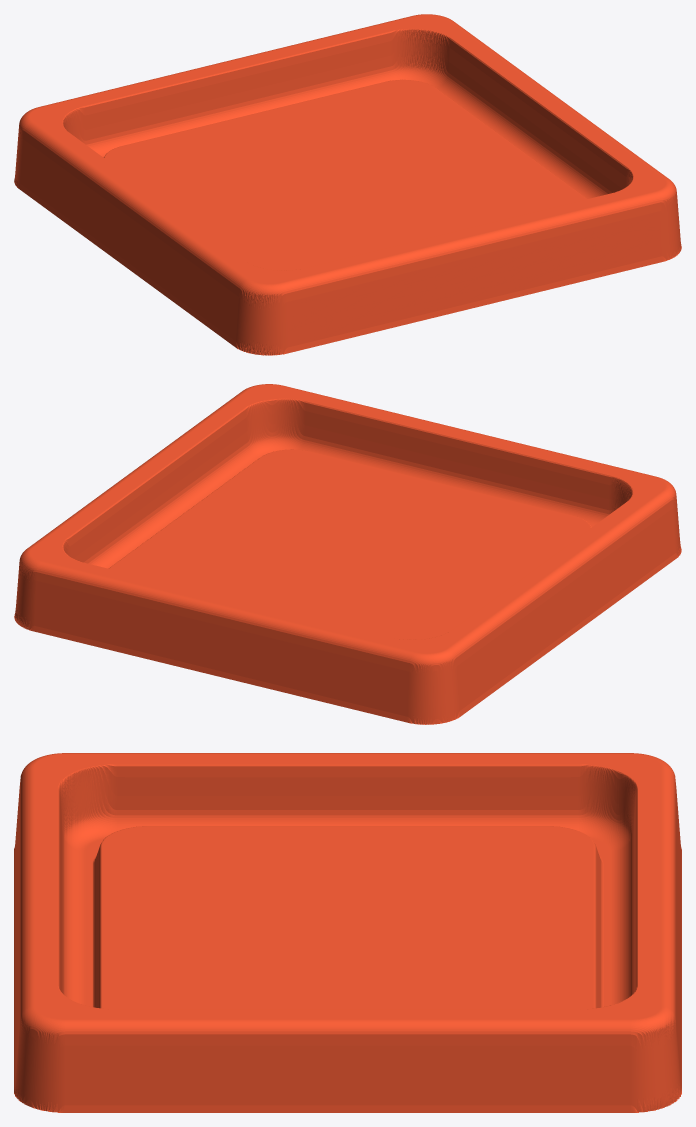
The model's file is mold.glb.
The picture shows the model from 3 angles, top to bottom: view 1: azimuth 30°, elevation 25°; view 2: azimuth 150°, elevation 25°; view 3: azimuth 270°, elevation 25°; orthographic projection. The views are drawn at different scales.
Parts seen in each view (by area): view 1: geometry_0; view 2: geometry_0; view 3: geometry_0.
Part boxes in pixels (x1=…): geometry_0: x1=14, y1=14, x2=681, y2=355; geometry_0: x1=14, y1=384, x2=681, y2=724; geometry_0: x1=14, y1=753, x2=681, y2=1112.
Bounding box in the file's own units: 0.1178 × 0.0165 × 0.1178.
